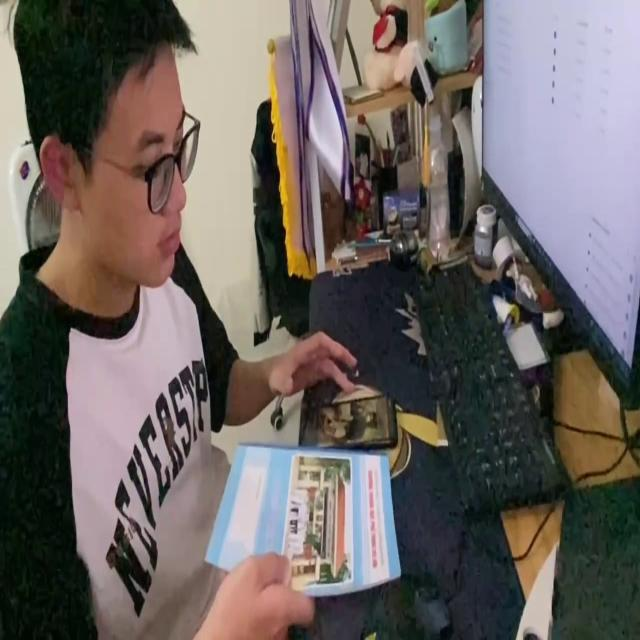book: (204, 440, 402, 603)
laptop: (479, 2, 640, 412)
phone: (301, 386, 400, 452)
student: (0, 0, 362, 633)
